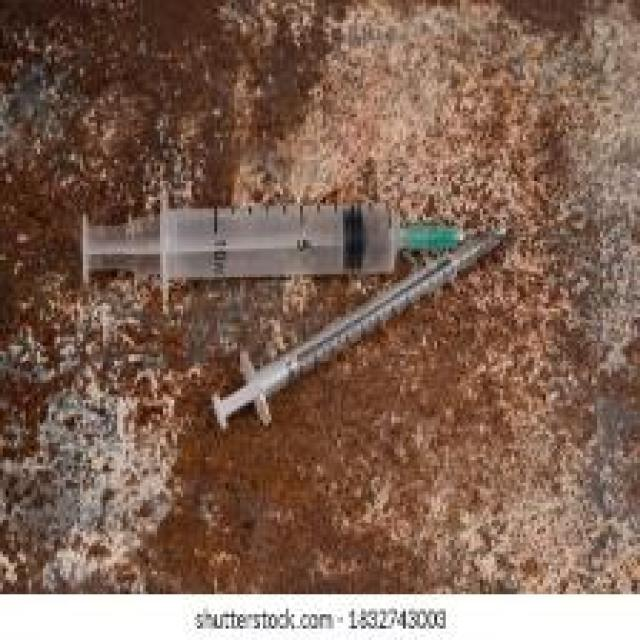syringe: (45, 175, 563, 431)
